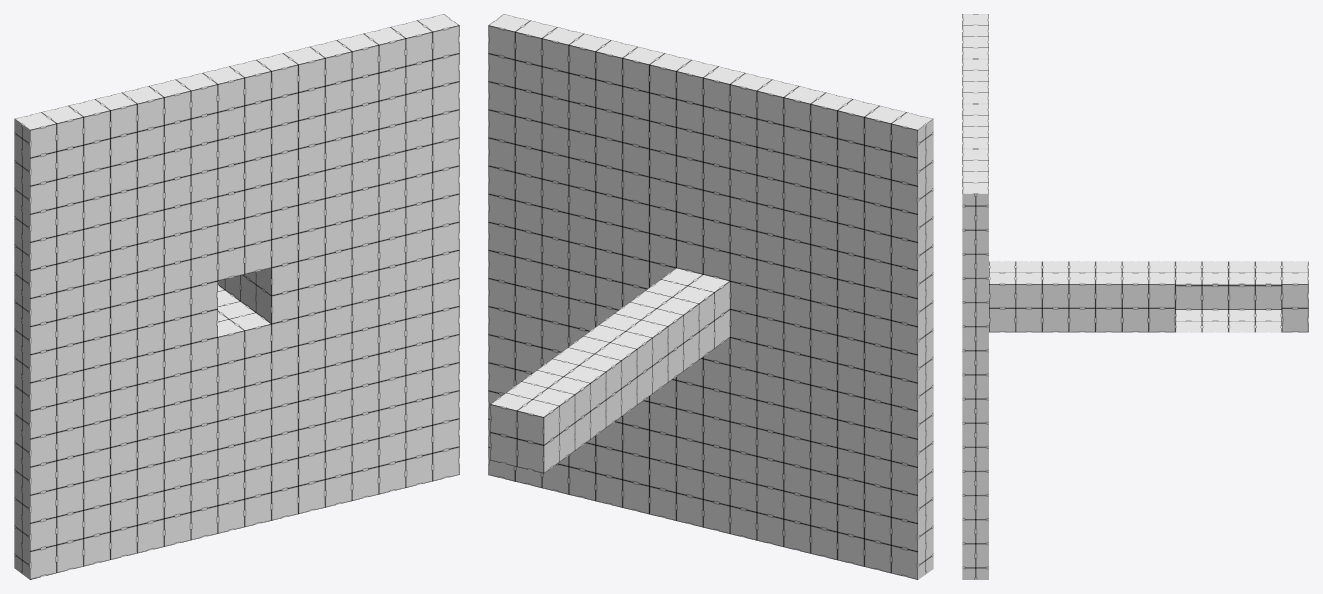
The model's file is Left.obj.
3 views of the same model, side by side, from view 1: azimuth 30°, elevation 25°; view 2: azimuth 150°, elevation 25°; view 3: azimuth 270°, elevation 25° (orthographic). The views are drawn at different scales.
Visible parts, largest first — view 1: Left; view 2: Left; view 3: Left.
Boxes of the visible parts, x1,y1,x2,y2 form: Left: (14, 14, 459, 579); Left: (488, 14, 933, 579); Left: (962, 14, 1308, 579).
Bounding box in the file's own units: 16 × 16.01 × 13.
Materials: 1 (1 with a texture image).
